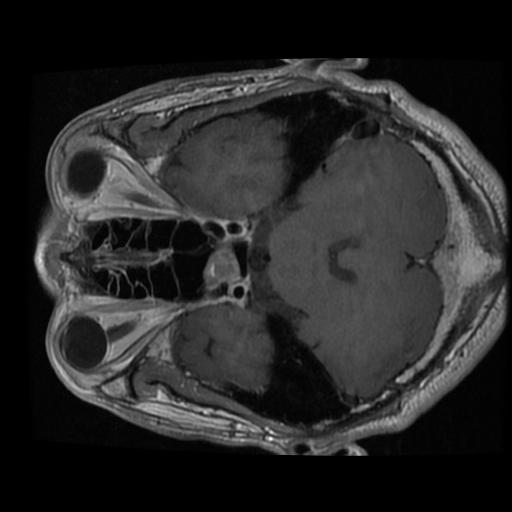pituitary tumour: (202, 243, 241, 290)
